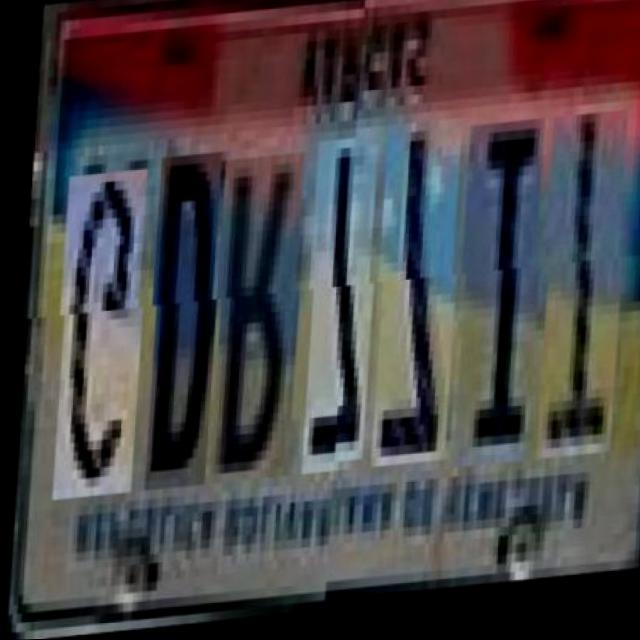7: (366, 127, 461, 475), (297, 134, 378, 471)
d: (140, 146, 223, 484)
g: (48, 162, 147, 492)
i: (448, 130, 545, 478)
r: (206, 149, 304, 479)
t: (531, 123, 628, 471)
